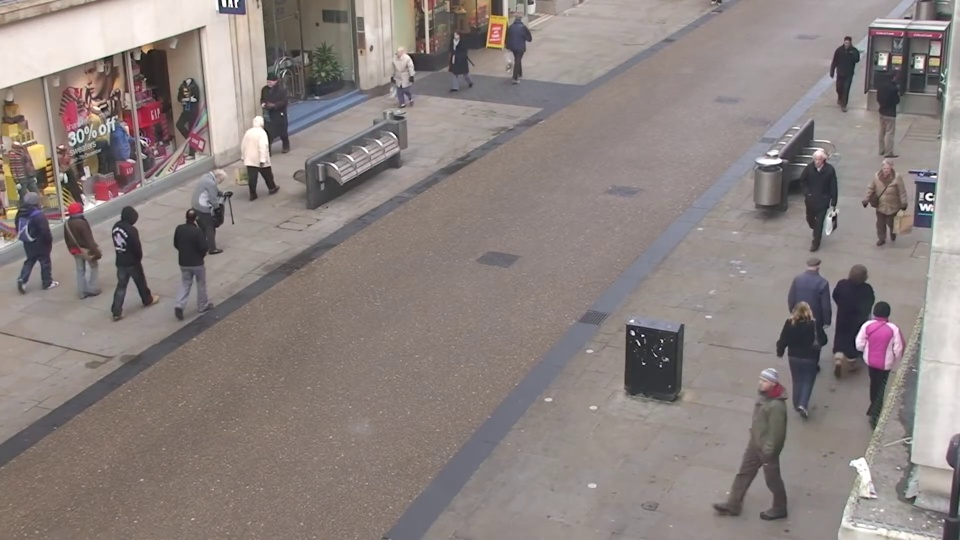pedestrian: (718, 365, 775, 526), (851, 285, 908, 427), (774, 287, 826, 429), (831, 254, 883, 387), (788, 245, 837, 376), (18, 180, 73, 291), (64, 195, 116, 309), (118, 197, 167, 312), (178, 197, 224, 312), (858, 158, 903, 266), (202, 164, 244, 270), (793, 148, 833, 254), (869, 66, 908, 153), (252, 110, 288, 203), (251, 72, 283, 154), (827, 34, 859, 110), (385, 43, 412, 118), (442, 27, 467, 98), (509, 9, 532, 75)
